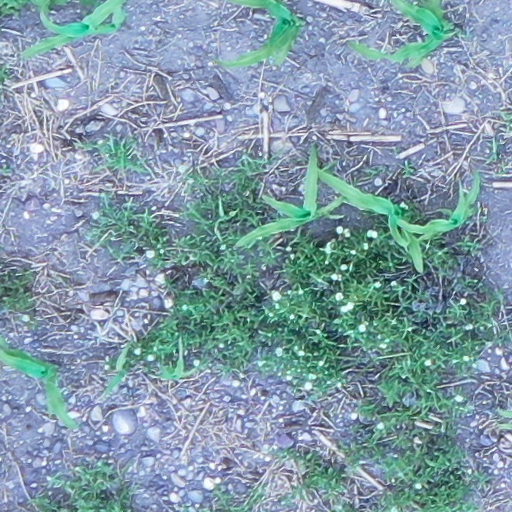planta: (311, 163, 424, 275), (231, 143, 346, 253), (1, 336, 76, 430), (394, 168, 481, 241), (156, 337, 201, 379), (101, 342, 131, 397)
